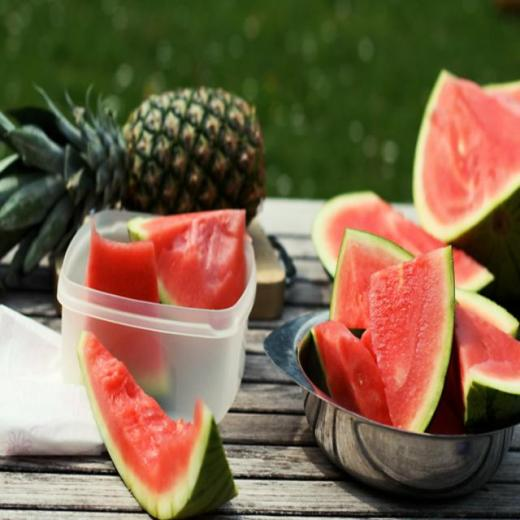Cherry: (308, 70, 519, 432), (76, 332, 231, 519), (63, 219, 174, 395), (130, 205, 250, 328)
